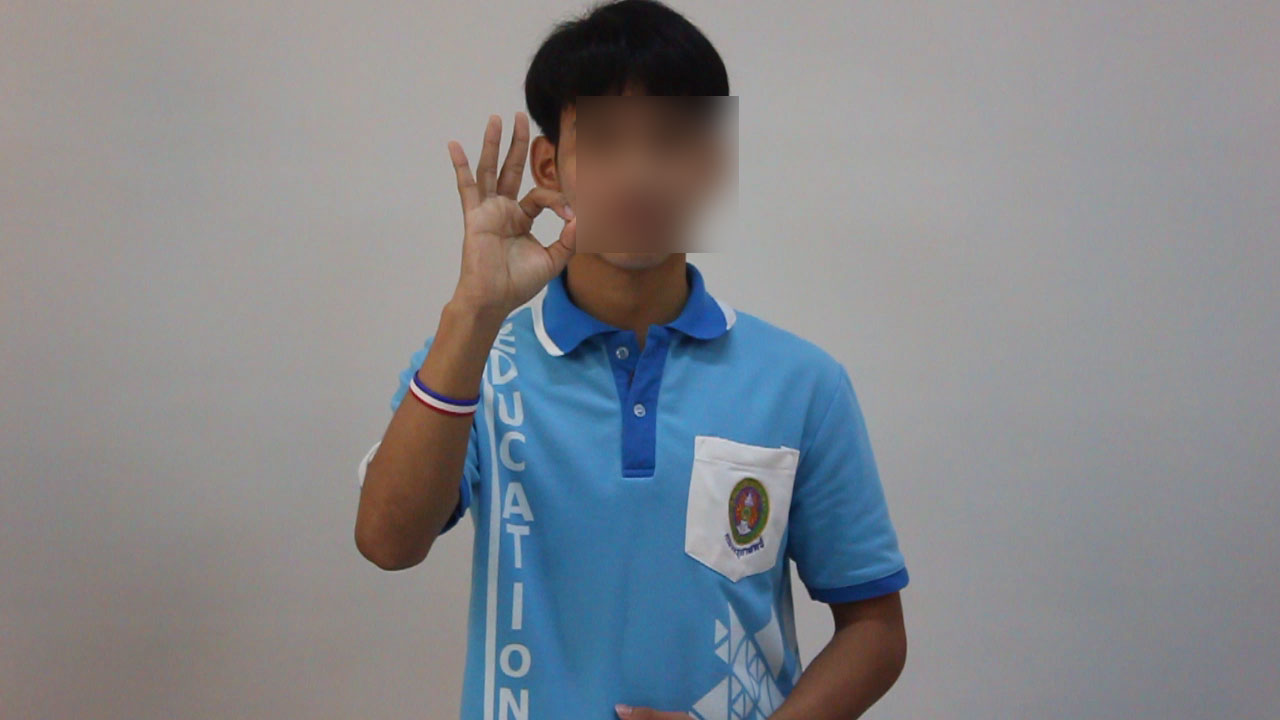for: (425, 103, 589, 321)
